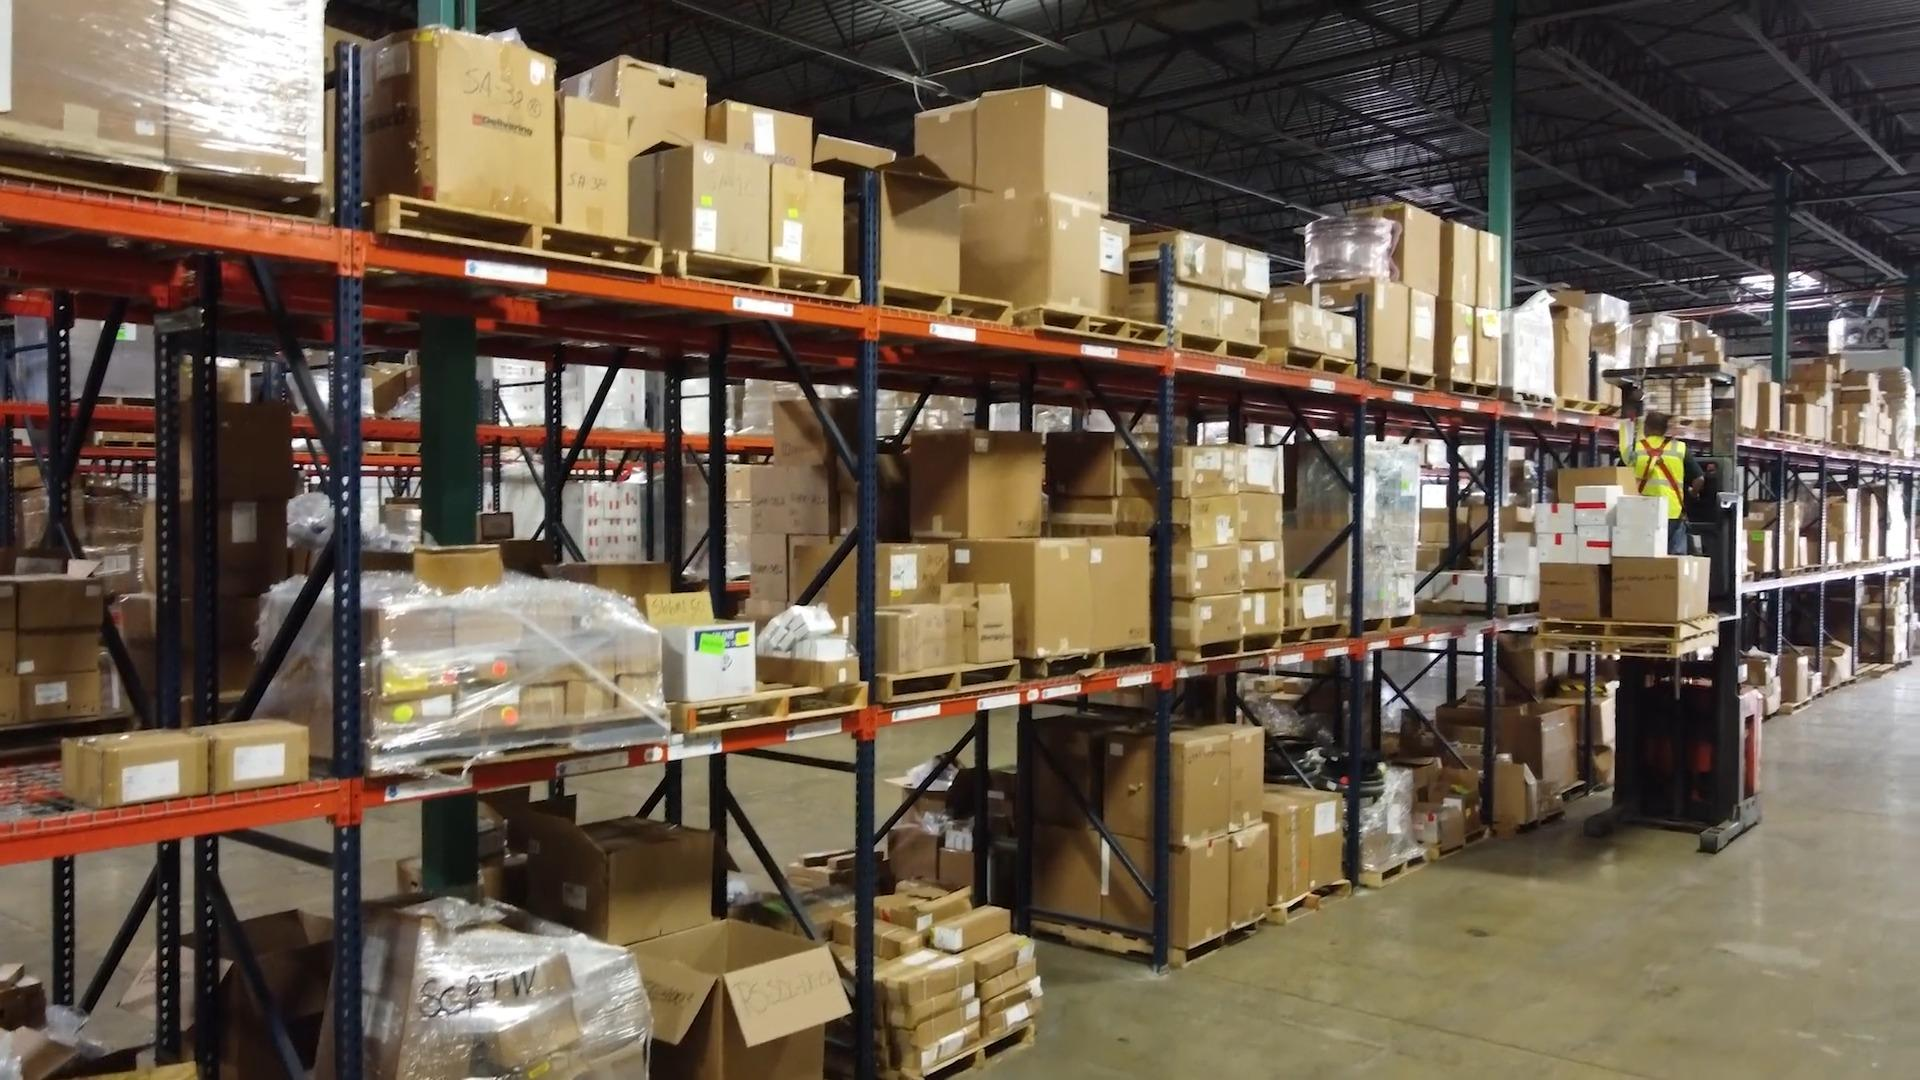-: (620, 911, 848, 1080), (386, 34, 556, 219), (492, 798, 704, 943), (975, 537, 1149, 655), (952, 189, 1105, 306), (1102, 723, 1237, 852), (972, 87, 1112, 200), (906, 422, 1040, 537), (567, 50, 707, 156), (1104, 832, 1225, 948), (649, 140, 773, 251), (145, 500, 289, 593), (123, 592, 253, 690), (61, 725, 208, 807), (762, 162, 848, 278), (211, 393, 298, 502), (654, 609, 758, 699), (793, 545, 963, 597), (564, 92, 630, 228), (881, 181, 957, 284), (1027, 820, 1108, 918), (777, 386, 872, 468), (1350, 204, 1439, 291), (204, 716, 305, 793), (1502, 702, 1580, 798), (1317, 282, 1404, 368), (1118, 495, 1240, 549), (724, 467, 829, 529), (1611, 555, 1708, 622), (909, 99, 985, 183), (1120, 446, 1241, 497), (1030, 723, 1097, 815), (1203, 720, 1257, 835), (0, 572, 108, 629), (1220, 824, 1271, 928), (1134, 229, 1224, 287), (0, 675, 100, 725), (1267, 787, 1311, 901), (0, 629, 103, 675), (948, 584, 1007, 663), (1048, 430, 1118, 496), (1130, 281, 1218, 332), (409, 543, 506, 589), (1507, 305, 1557, 393), (885, 603, 947, 671), (1170, 547, 1242, 599), (1167, 595, 1242, 644), (1543, 560, 1604, 620), (1258, 299, 1327, 348), (1435, 303, 1476, 381), (1556, 314, 1592, 397), (1222, 241, 1271, 301), (1444, 220, 1477, 305), (1436, 570, 1526, 600), (1286, 578, 1337, 628), (1048, 497, 1118, 533), (1316, 306, 1358, 363), (1242, 446, 1287, 497), (1237, 492, 1283, 539), (1477, 229, 1502, 313), (1241, 543, 1286, 589), (1220, 293, 1261, 342), (1477, 307, 1501, 385), (1241, 593, 1286, 634), (1506, 527, 1539, 574), (1621, 496, 1665, 529), (1576, 485, 1613, 525), (1613, 530, 1668, 554), (1531, 504, 1575, 533), (1532, 531, 1575, 559), (1576, 529, 1609, 559)
